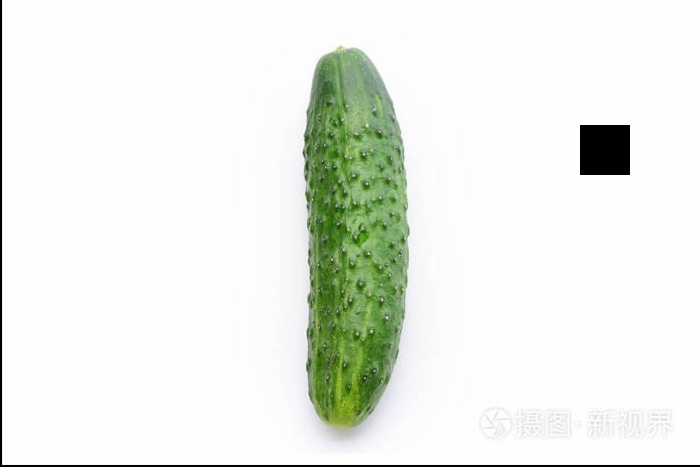cucumber: (299, 44, 405, 431)
